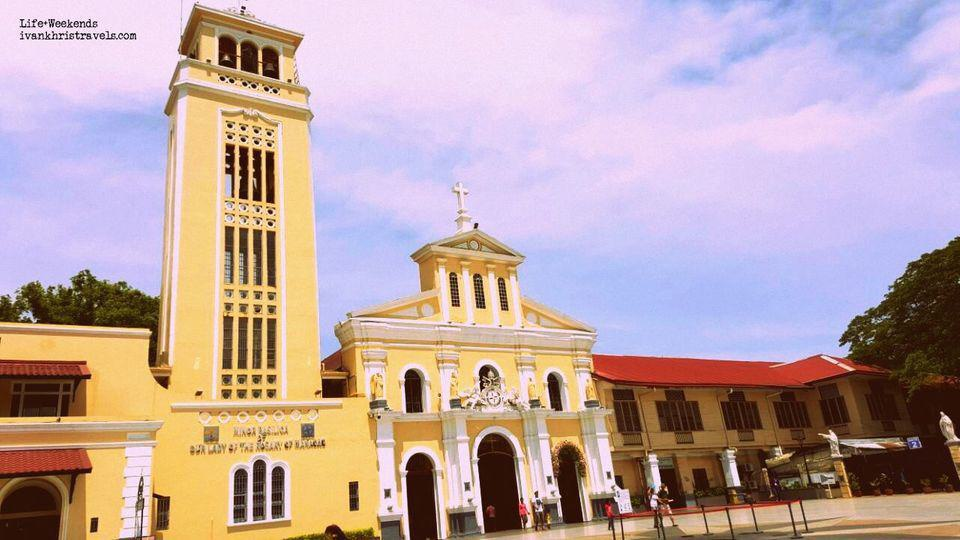manaoag_church_manaoag_pangasinan: (157, 2, 608, 526)
